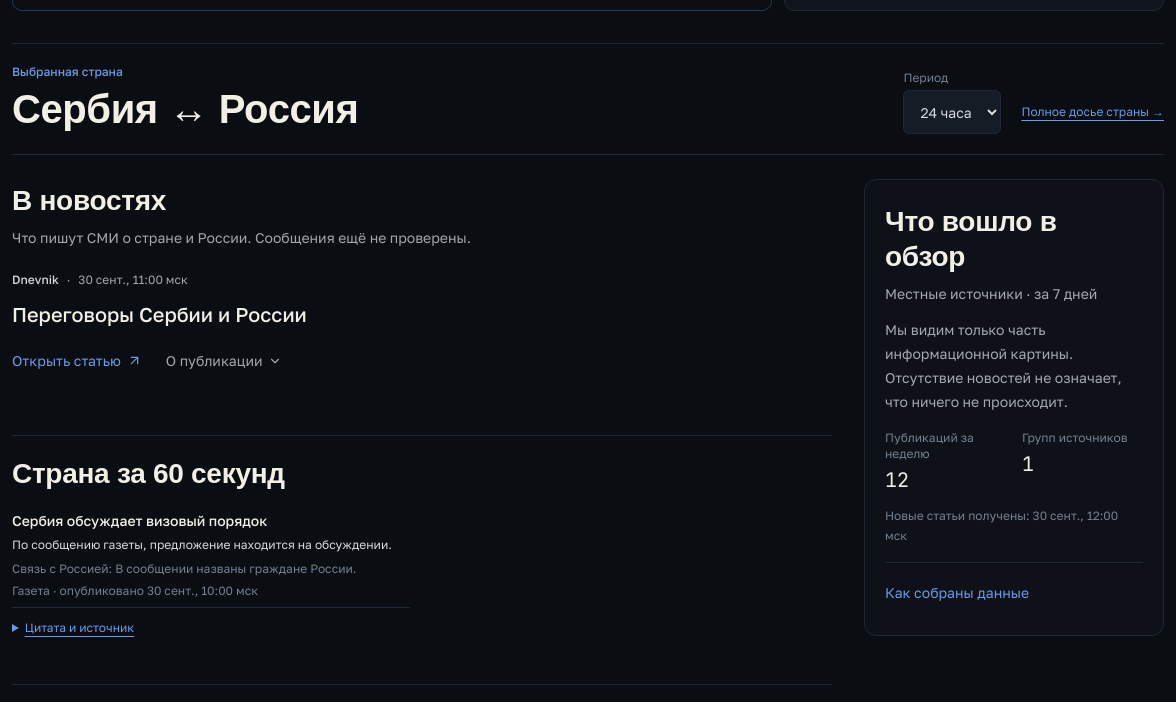
Test case: DecisionWorkspace › keeps translated headlines readable and moves machine labels into details
(page scrolled)
Check: the heading "Переговоры Сербии и России" is shown, box [12,302,307,326]
Check: the text "Что пишут СМИ о стране и России. Сообщения ещё не проверены." is shown, box [12,229,471,246]
Click the heading "О публикации" at {"x": 224, "y": 360}, box [166,352,282,368]
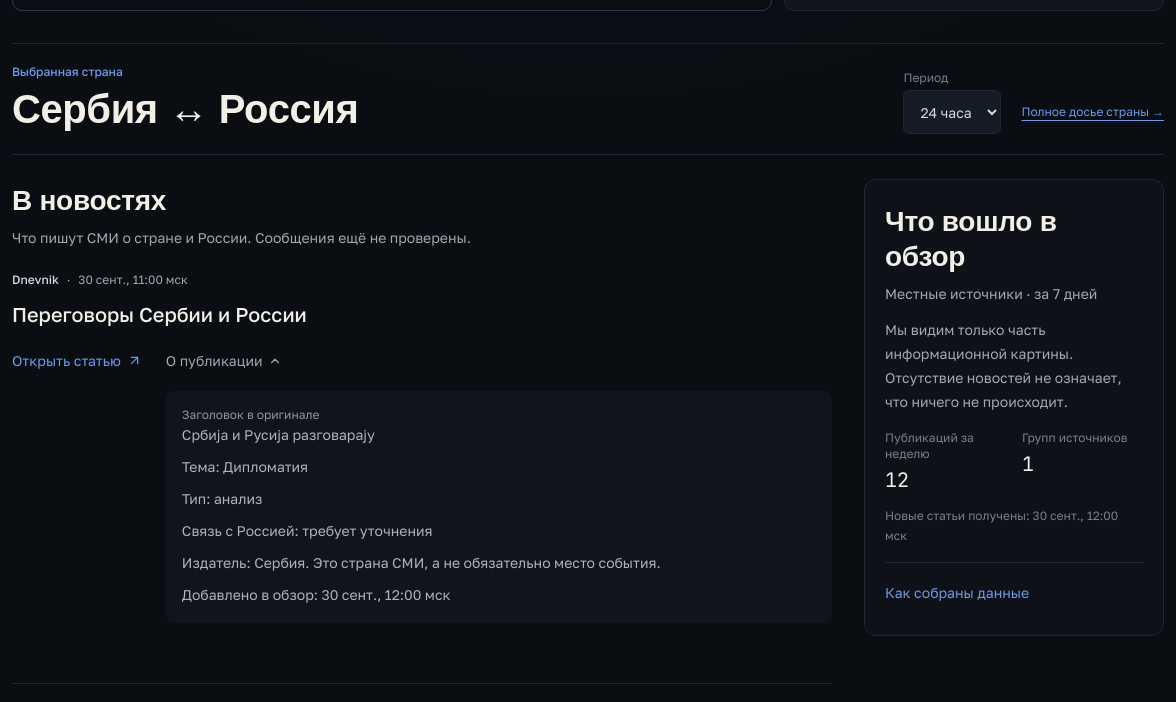
Check: the text "Тема: Дипломатия" is shown, box [182,458,308,474]
Check: the text "Тип: анализ" is shown, box [182,490,262,506]
Check: the text "Связь с Россией: требует уточнения" is shown, box [182,522,432,538]
Select "7 суток" in the dropdown named "Период материалов" at {"x": 952, "y": 112}, box [903,90,1001,134]
(page scrolled)
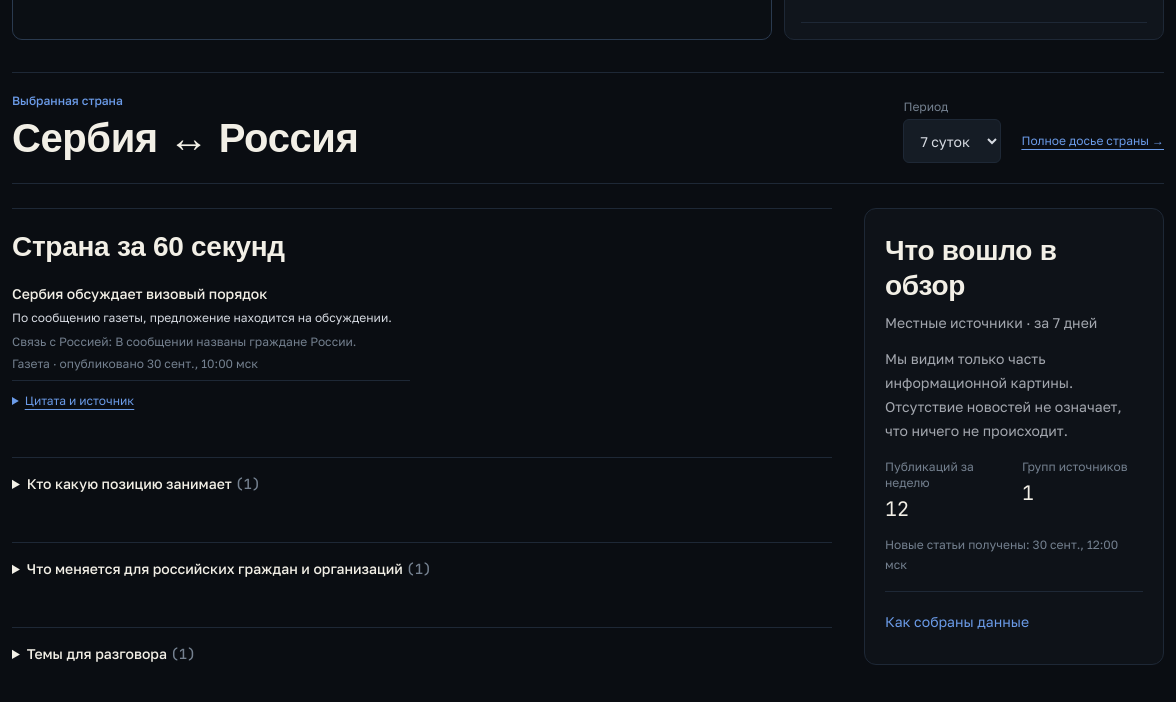
Check: the heading "В новостях" is gone
